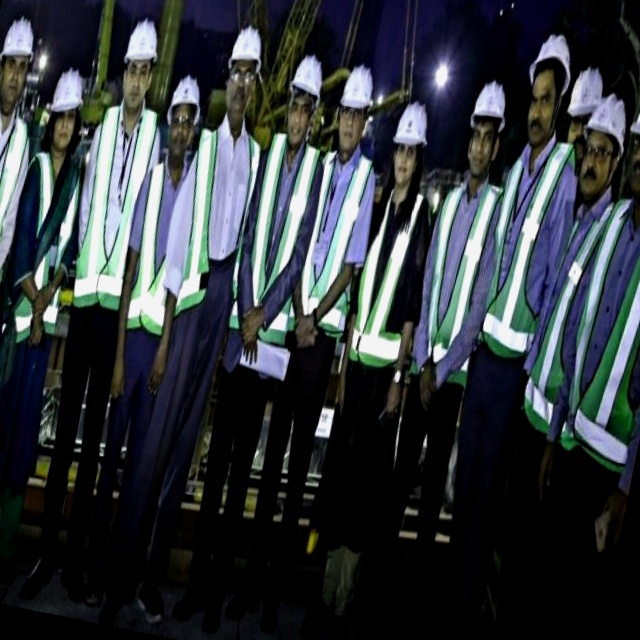Con_Casco: (519, 32, 578, 135), (461, 79, 513, 174), (218, 22, 268, 120), (331, 61, 380, 152), (116, 17, 164, 105), (282, 50, 329, 137), (387, 99, 435, 180), (0, 13, 41, 107), (160, 73, 207, 154), (45, 65, 88, 149), (621, 66, 640, 188)
Con_Chaleco: (476, 135, 580, 356), (561, 195, 640, 473), (229, 132, 328, 347), (407, 175, 508, 385), (64, 100, 160, 309), (344, 182, 442, 378), (291, 150, 383, 348), (171, 128, 267, 314), (2, 159, 88, 340), (119, 161, 196, 337), (0, 106, 36, 311)
